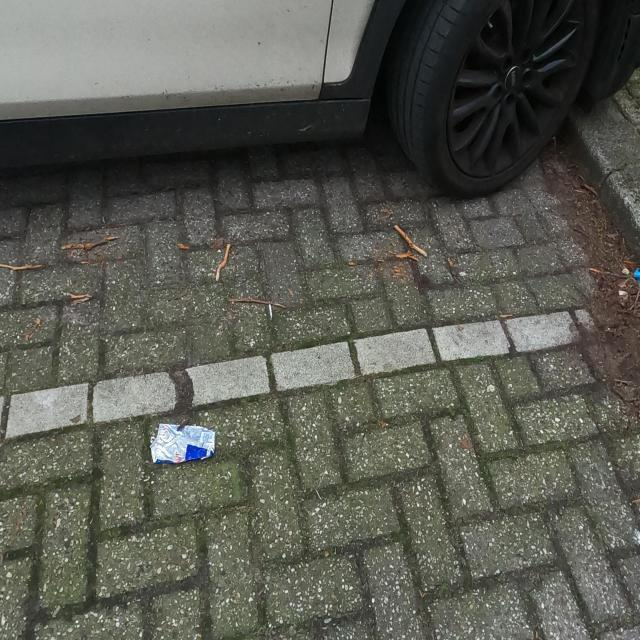Can-Metal: (148, 421, 217, 466)
